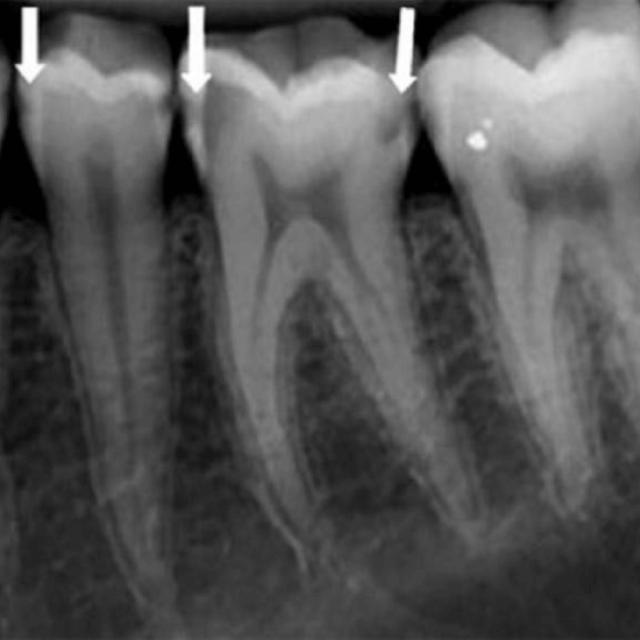Caries: (181, 37, 426, 600)
